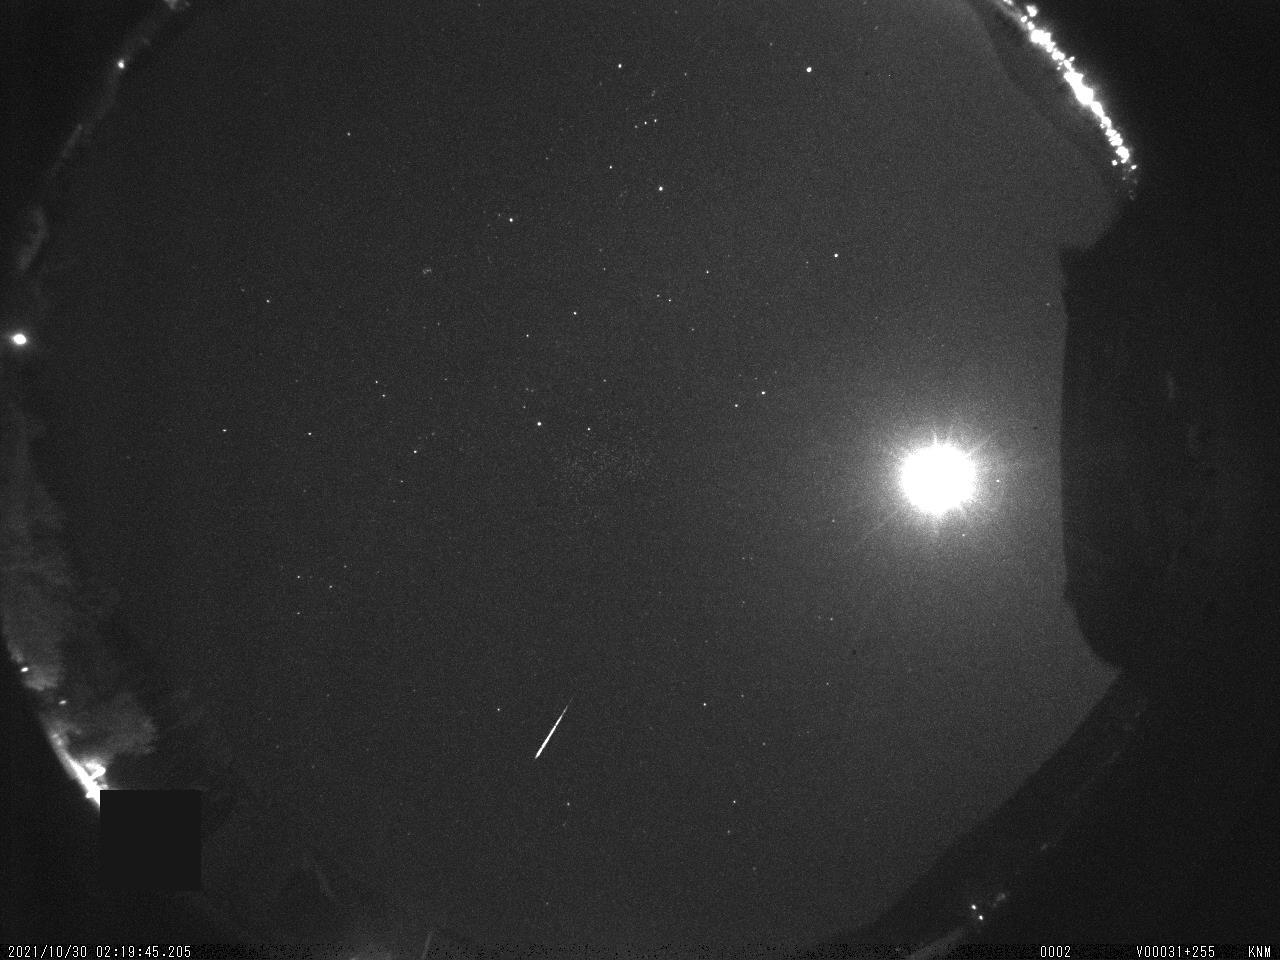meteor: (529, 691, 579, 768)
